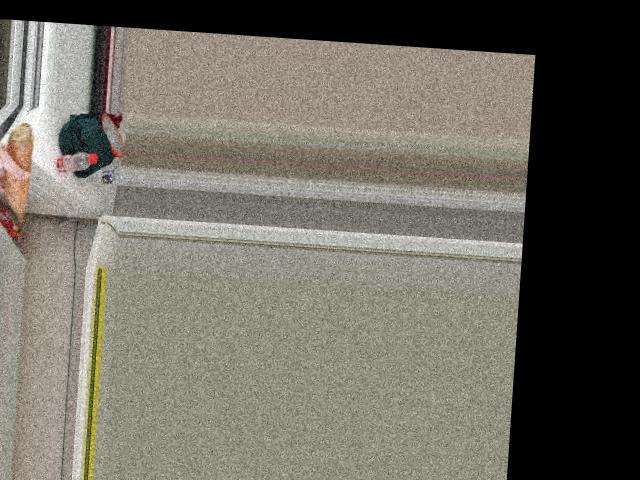sweet_potato: (1, 131, 33, 218)
